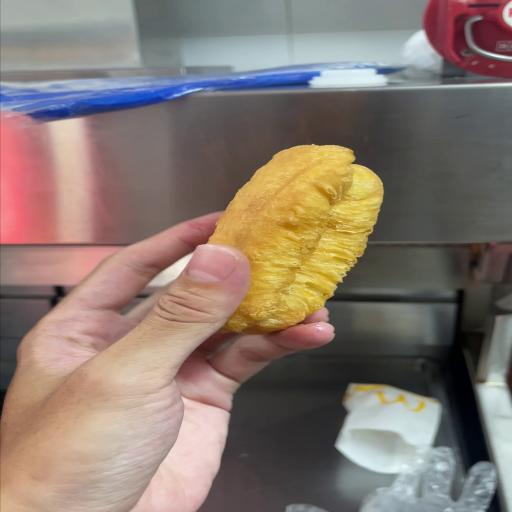brand_golden_good: (209, 145, 383, 334)
